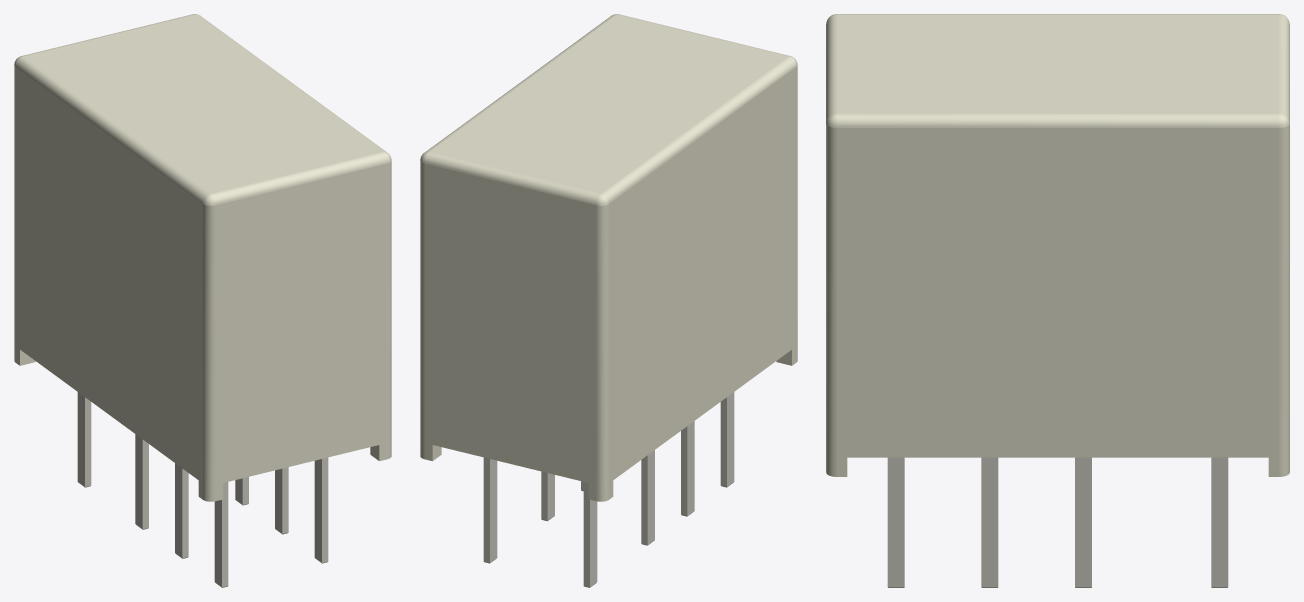
Rendered from kc-relay_dpdt_fcl_ftr-b4c.glb.
3 views of the same model, side by side, from view 1: azimuth 30°, elevation 25°; view 2: azimuth 150°, elevation 25°; view 3: azimuth 270°, elevation 25° (orthographic). The views are drawn at different scales.
Parts seen in each view (by area): view 1: 0.75_0.75_0.6666666666666666_0, 0.6666666666666666_0.6666666666666666_0.5833333333333334_0.8; view 2: 0.75_0.75_0.6666666666666666_0, 0.6666666666666666_0.6666666666666666_0.5833333333333334_0.8; view 3: 0.75_0.75_0.6666666666666666_0, 0.6666666666666666_0.6666666666666666_0.5833333333333334_0.8.
Part boxes in pixels (x1,y1,x2,y2): 0.75_0.75_0.6666666666666666_0: (14,14,391,501); 0.6666666666666666_0.6666666666666666_0.5833333333333334_0.8: (77,392,328,587); 0.75_0.75_0.6666666666666666_0: (420,14,797,501); 0.6666666666666666_0.6666666666666666_0.5833333333333334_0.8: (483,392,734,587); 0.75_0.75_0.6666666666666666_0: (826,14,1289,476); 0.6666666666666666_0.6666666666666666_0.5833333333333334_0.8: (887,457,1228,587).
Bounding box in the file's own units: 0.6 × 1.28 × 1.09.
